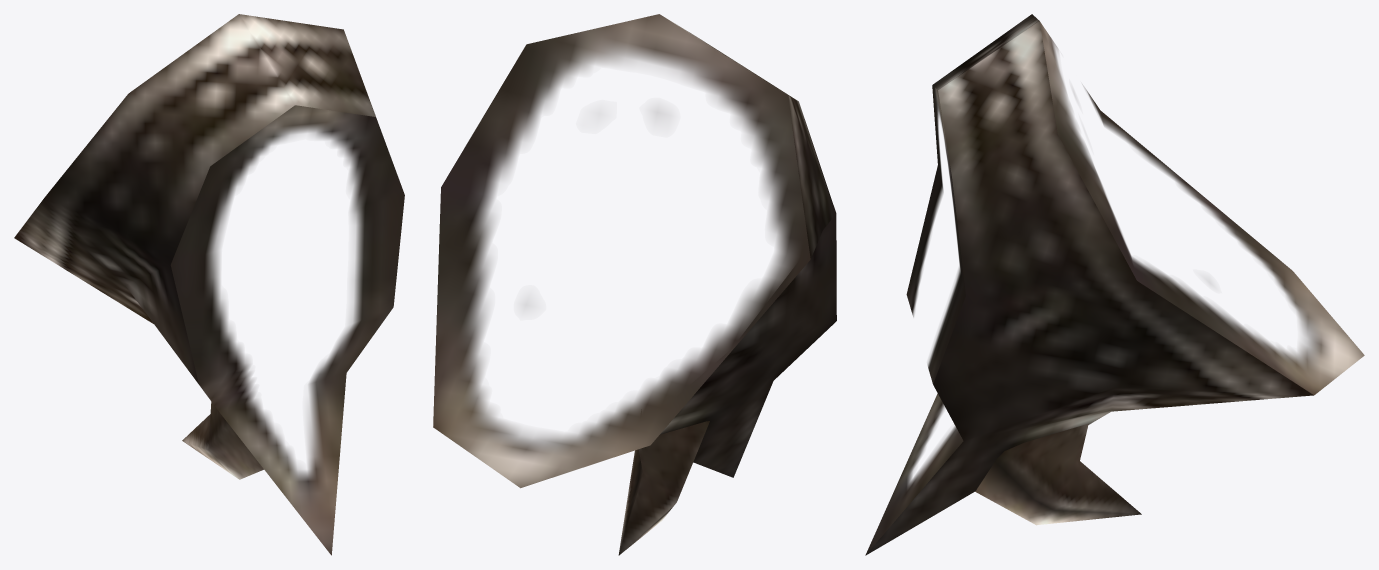
File: ex01shadow_rock_7_knee_right.glb
The picture shows the model from 3 angles, left to right: view 1: azimuth 30°, elevation 25°; view 2: azimuth 150°, elevation 25°; view 3: azimuth 270°, elevation 25°; orthographic projection. The views are drawn at different scales.
Parts seen in each view (by area): view 1: model_ex01shadow_rock_7_knee_right; view 2: model_ex01shadow_rock_7_knee_right; view 3: model_ex01shadow_rock_7_knee_right.
Boxes of the visible parts, <box> form: model_ex01shadow_rock_7_knee_right: <box>14,14,404,555</box>; model_ex01shadow_rock_7_knee_right: <box>433,14,836,555</box>; model_ex01shadow_rock_7_knee_right: <box>865,14,1364,555</box>.
Bounding box in the file's own units: 0.2261 × 0.3268 × 0.2801.
Materials: 1 (1 with a texture image).
